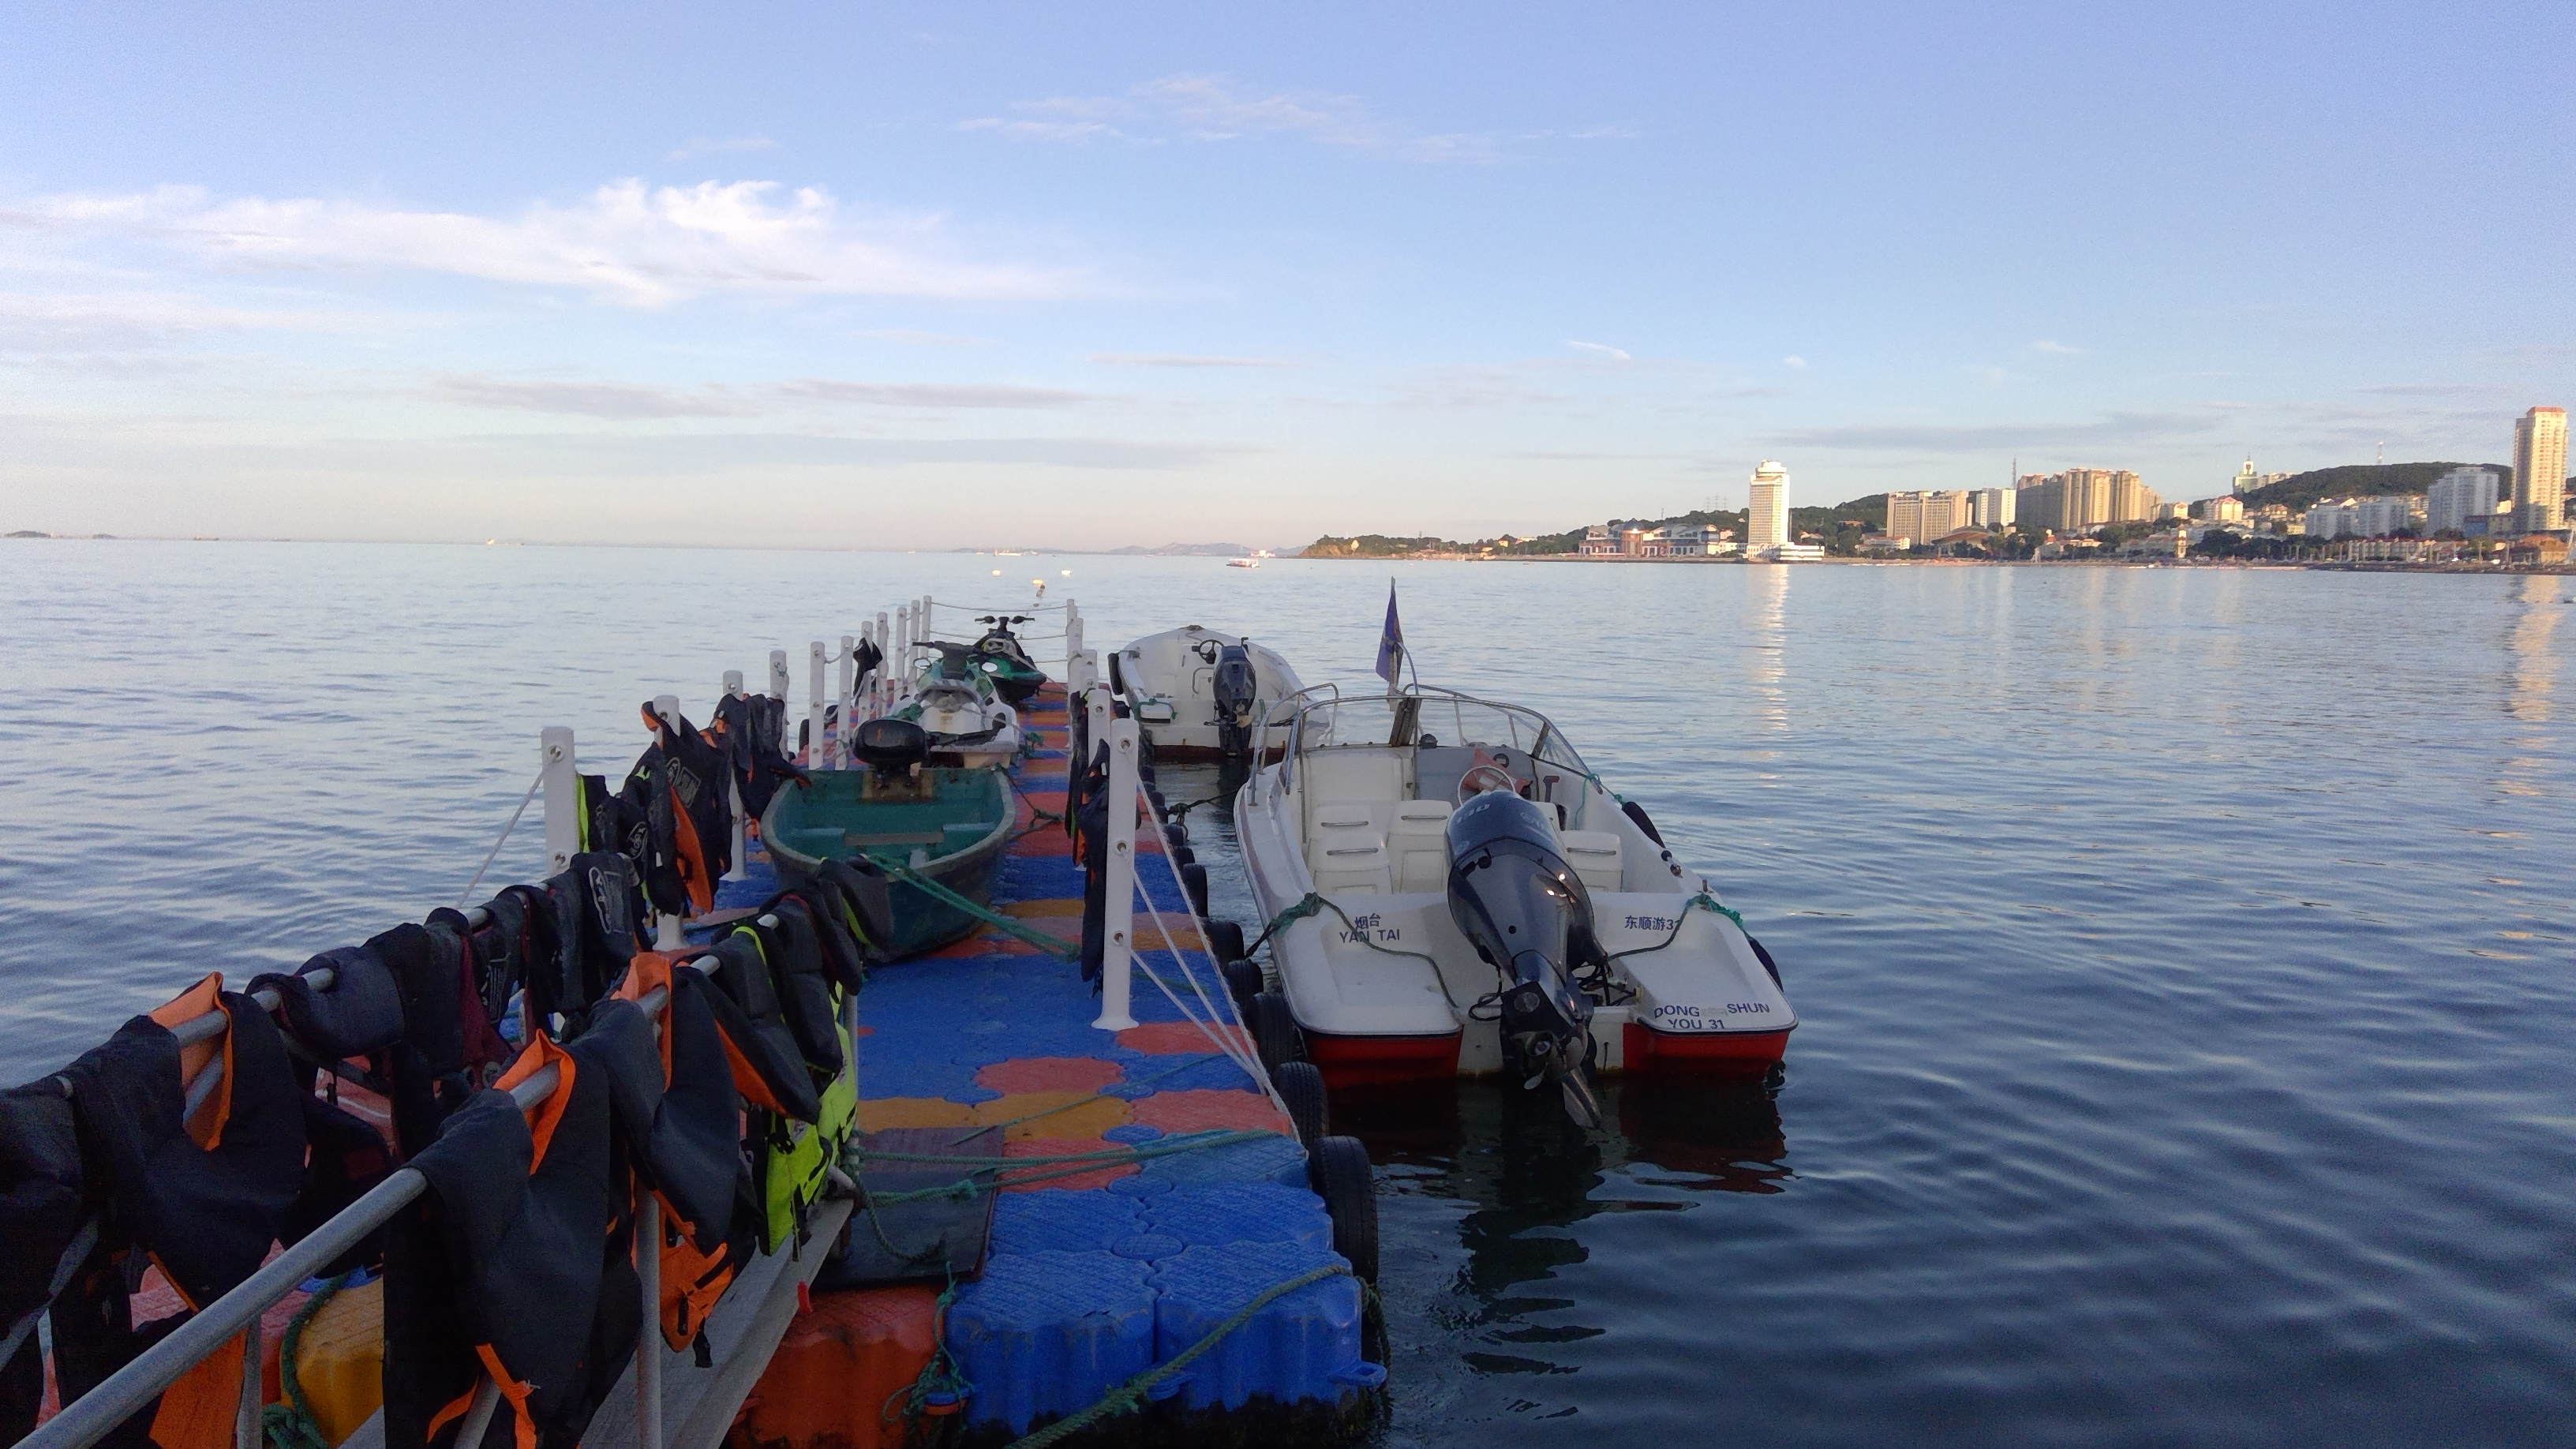boat: (1228, 662, 1792, 1104)
platform: (0, 441, 1353, 1449)
